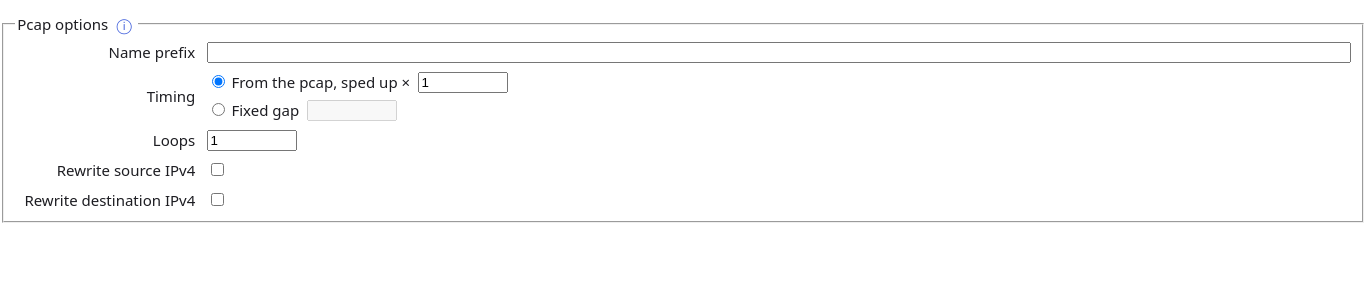
Test: PcapWizard › fixed gap sends ipg_usec and speedup 1
Replace the text in the number field named "Speedup" with "2": (463, 82) [418, 72, 508, 93]
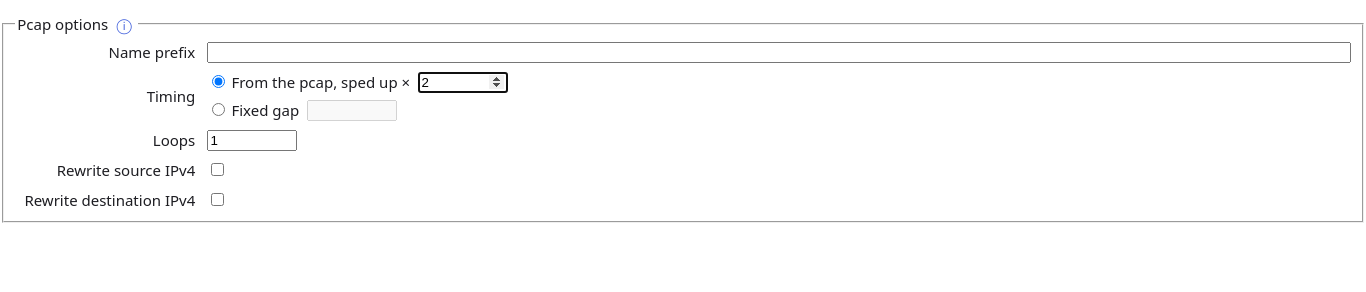
Click the radio button labelled "Fixed gap": click(218, 110) [212, 103, 224, 116]
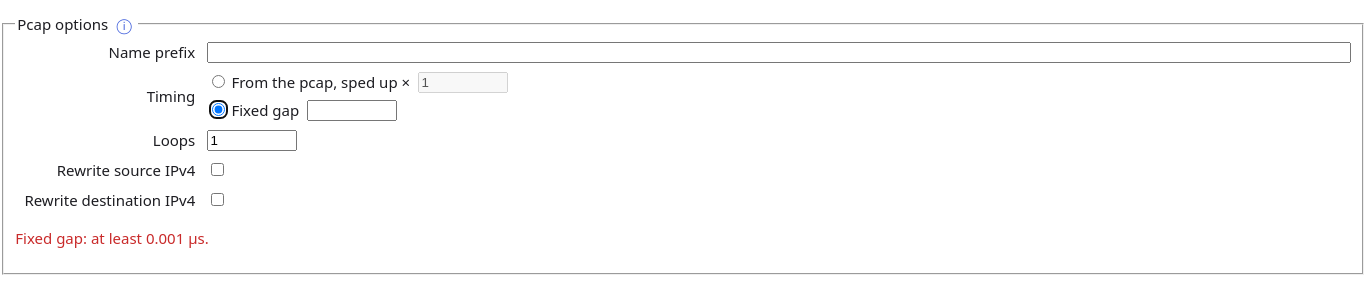
Expected: the number field named "Speedup" is disabled, [418, 72, 508, 93]
In the number field named "Gap (µs)": (352, 110) [307, 100, 397, 121], type "100"
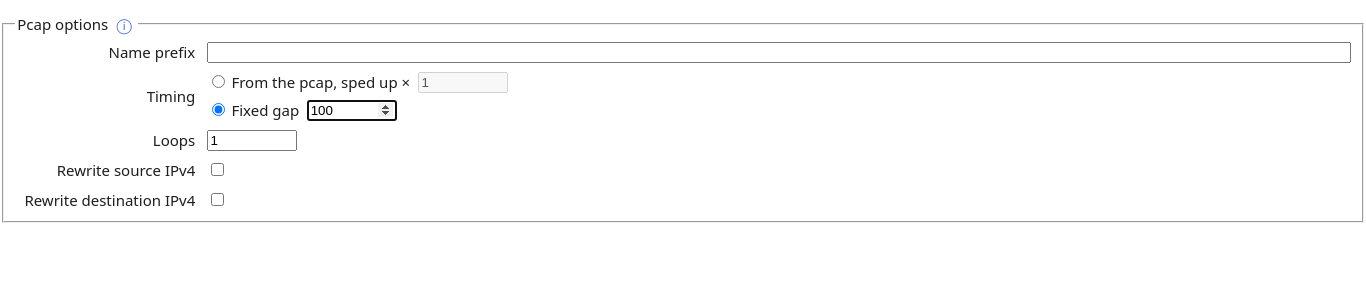
Expected: the message "Fixed gap: at least 0.001 µs." is gone
